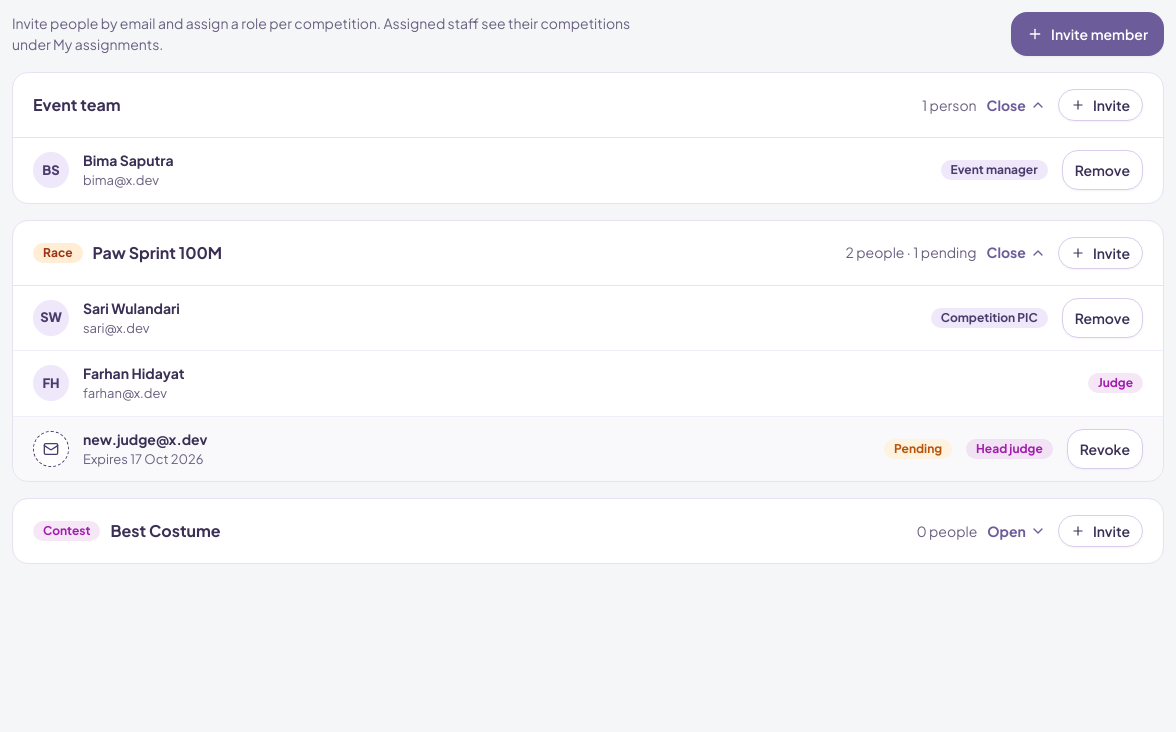
Test: EventCommittee › keeps a collapsed competition closed until opened, then shows the empty text
Expected: the text "No one is assigned yet." is not shown
Click the button "Contest Best Costume 0 people Open": [67, 531] box left=33, top=511, right=1046, bottom=551
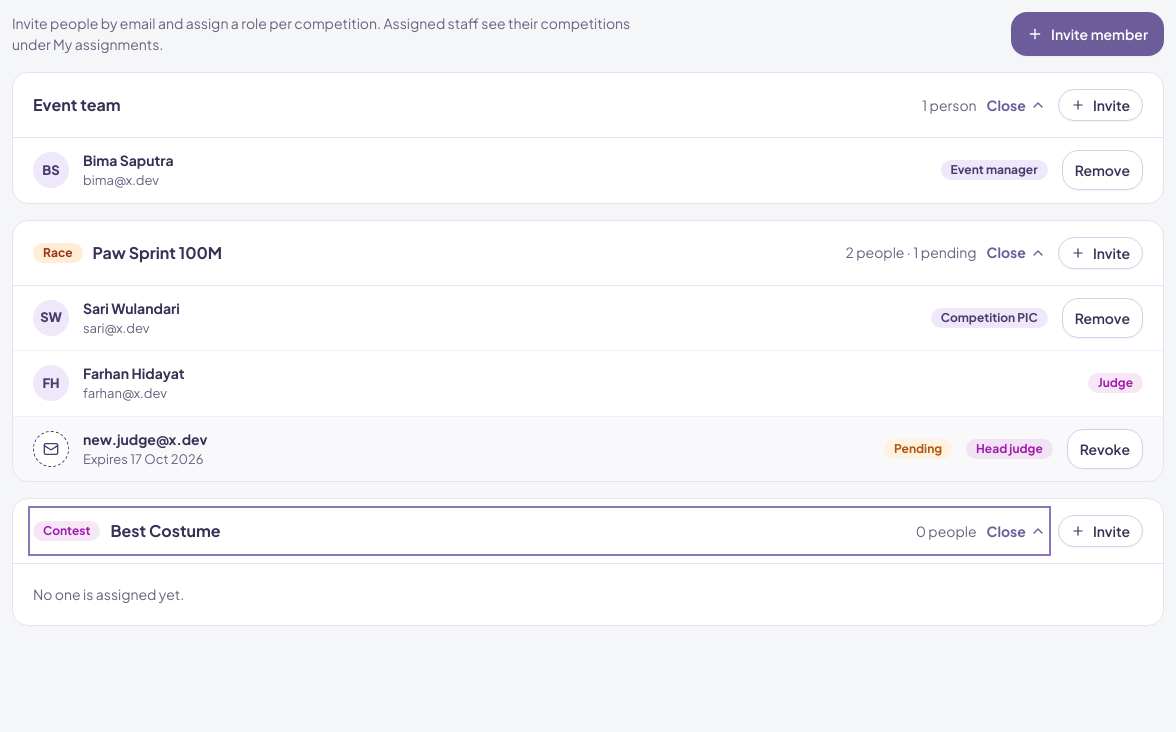
Expected: the text "No one is assigned yet." is shown, left=33, top=585, right=184, bottom=603
